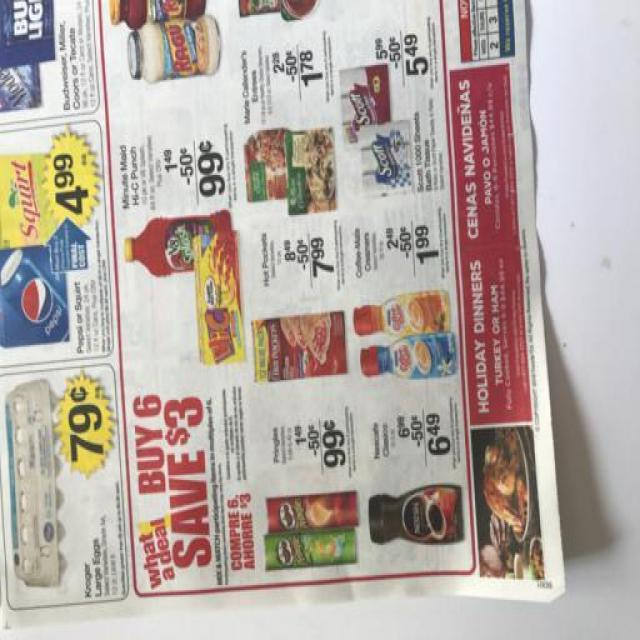paper: (1, 1, 577, 628)
